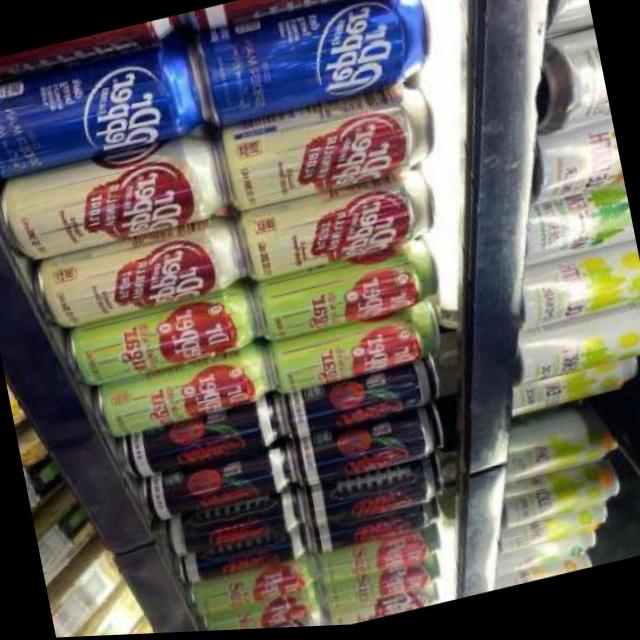Drinks: (189, 0, 440, 133), (0, 33, 210, 185), (0, 130, 232, 267), (214, 82, 442, 216), (27, 214, 249, 332), (237, 171, 440, 286), (61, 283, 267, 389), (253, 242, 444, 347), (87, 345, 276, 442), (264, 306, 444, 396), (0, 12, 192, 89), (115, 398, 289, 481), (136, 442, 302, 525), (278, 361, 442, 442), (287, 406, 448, 488), (156, 489, 308, 565), (298, 455, 446, 533), (186, 0, 441, 37), (183, 555, 320, 619), (172, 530, 312, 588), (313, 528, 443, 587), (308, 501, 443, 556), (319, 560, 442, 613), (198, 589, 323, 633), (324, 587, 440, 629), (208, 614, 331, 633)
